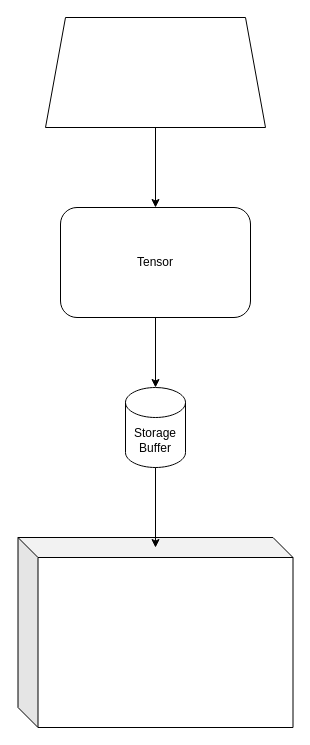
The diagram is 310 pixels wide and 745 high, and some of its shapes have lost their labels. Here are the shapes that lost their labels. From the top down, the centre of each, then its label:
At [155,72]: "Context".
At [155,632]: "Compute Device".
